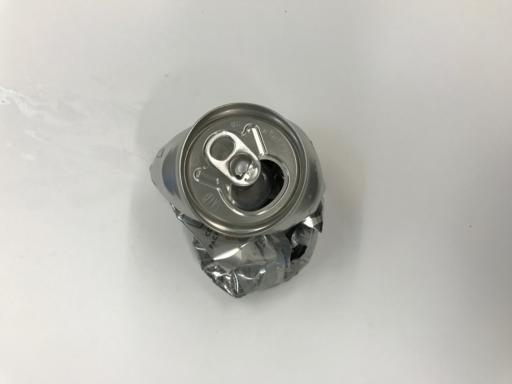kaleng: (150, 101, 325, 300)
